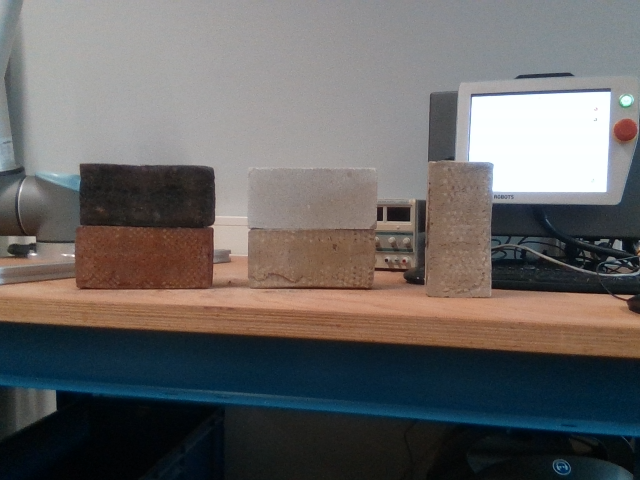brick: (432, 163, 491, 296), (79, 229, 212, 288), (251, 169, 375, 230), (83, 167, 213, 225), (249, 232, 373, 285)
